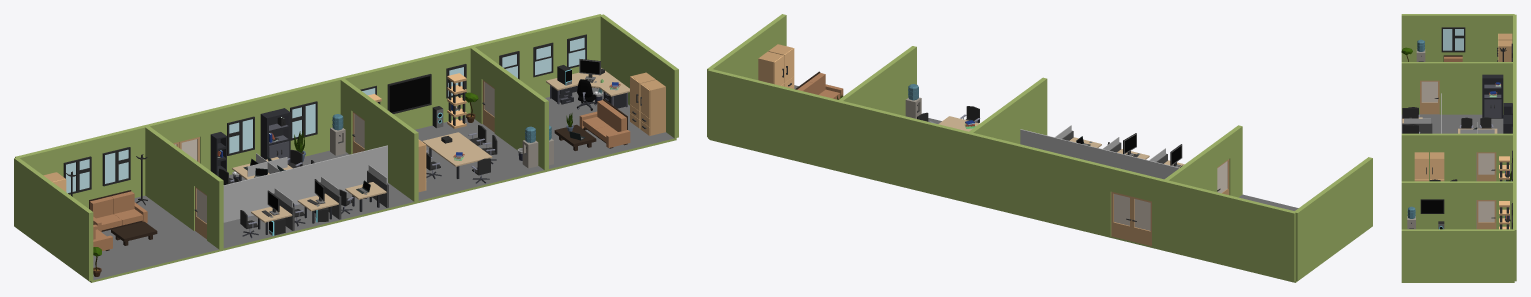
The model's file is modular_office_sample.gltf.
3 views of the same model, side by side, from view 1: azimuth 30°, elevation 25°; view 2: azimuth 150°, elevation 25°; view 3: azimuth 270°, elevation 25° (orthographic). The views are drawn at different scales.
Parts seen in each view (by area): view 1: wall_1.008, wall_1.007, wall_1.006, wall_1.009, wall_1.013, wall_1.012, wall_1.015, wall_2.001, wall_1.011, ground_1.005, wall_1.018, wall_2.003 (+55 smaller); view 2: wall_1.004, wall_1.010, wall_1.011, wall_1.005, wall_1.012, wall_1.014, wall_1.007, wall_1.018, wall_1.006, wall_3.001, wall_1.008, wall_1.015 (+16 smaller); view 3: wall_1.016, wall_1.017, wall_2.001, wall_1.015, wall_1.006, wall_1.008, wall_1.009, wall_1.013, wall_2.002, wall_2.003, office_door_1.001, window_1.003 (+34 smaller).
Boxes of the visible parts, x1,y1,x2,y2 form: wall_1.008: (51,185,93,281); wall_1.007: (80,125,146,208); wall_1.006: (14,158,55,253); wall_1.009: (145,126,185,221); wall_1.013: (377,105,418,201); wall_1.012: (405,46,472,129); wall_1.015: (507,73,548,170); wall_2.001: (181,153,223,249); wall_1.011: (275,77,341,156); ground_1.005: (128,222,221,266); wall_1.018: (536,14,601,97); wall_2.003: (470,46,510,142); wall_1.004: (1229,196,1296,281); wall_1.010: (1033,148,1100,233); wall_1.011: (968,133,1035,217); wall_1.005: (903,116,969,202); wall_1.012: (838,101,905,185); wall_1.014: (773,84,838,170); wall_1.007: (1164,180,1231,265); wall_1.018: (708,68,775,154); wall_1.006: (1294,184,1335,281); wall_3.001: (1099,164,1165,249); wall_1.008: (1331,157,1372,253); wall_1.015: (875,46,916,116); wall_1.016: (1458,229,1514,282); wall_1.017: (1401,229,1457,282); wall_2.001: (1401,62,1457,114); wall_1.015: (1401,181,1457,229); wall_1.006: (1458,14,1514,61); wall_1.008: (1401,14,1457,61); wall_1.009: (1458,62,1514,114); wall_1.013: (1401,133,1457,181); wall_2.002: (1458,133,1514,181); wall_2.003: (1458,181,1514,229); office_door_1.001: (1420,80,1439,114); window_1.003: (1441,27,1465,52).
Size of the model in its own units: 27.2 by 3.09 by 6.11.
Materials: 1 (1 with a texture image).
